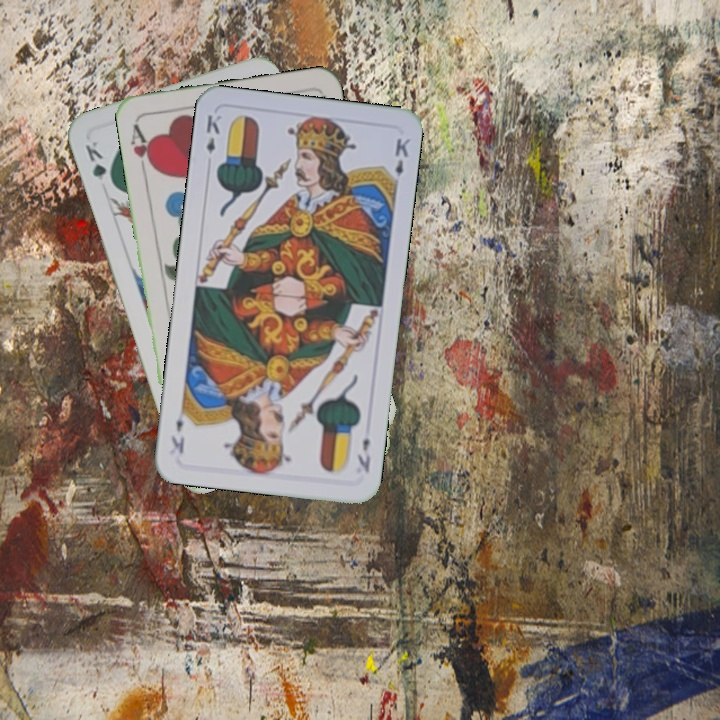EK: (202, 111, 224, 156), (353, 434, 373, 475)
GK: (81, 137, 117, 190)
HA: (126, 119, 158, 178)
